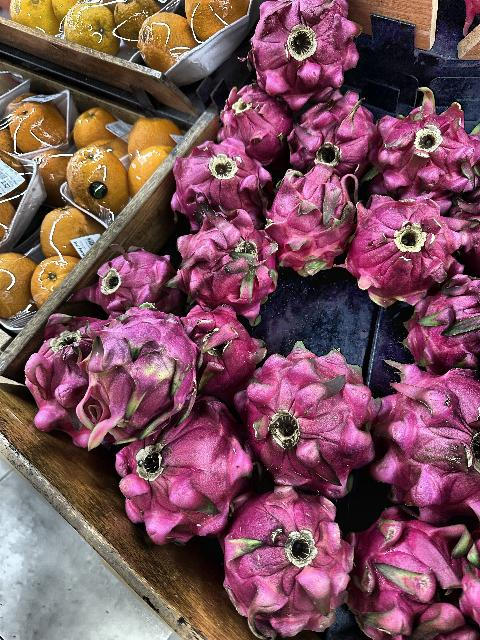buah-naga-belum-matang: (76, 311, 198, 441)
buah-naga-matang: (227, 330, 381, 500), (227, 482, 355, 638), (366, 350, 480, 518), (346, 500, 480, 640), (110, 412, 252, 540), (343, 184, 459, 302), (168, 205, 284, 322), (368, 80, 480, 196), (20, 302, 106, 444), (246, 0, 364, 100), (260, 162, 356, 278), (161, 134, 271, 228), (282, 86, 378, 178), (82, 245, 188, 321), (180, 300, 268, 388), (404, 278, 480, 360), (213, 81, 289, 160)
